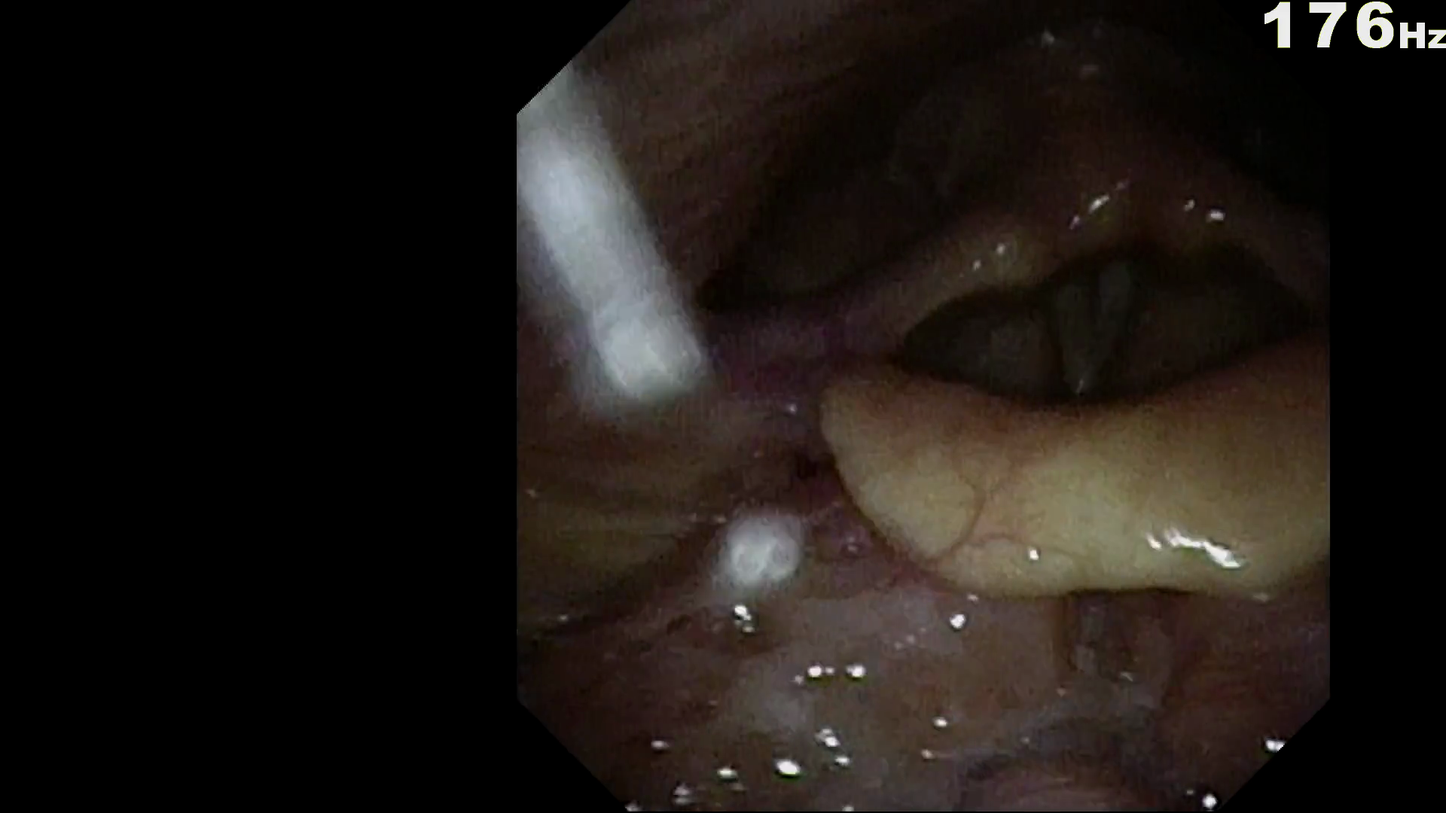epiglottis: (798, 374, 1312, 621)
trachea: (1011, 277, 1158, 431)
